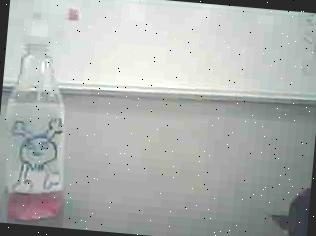hazard: (0, 0, 84, 228)
